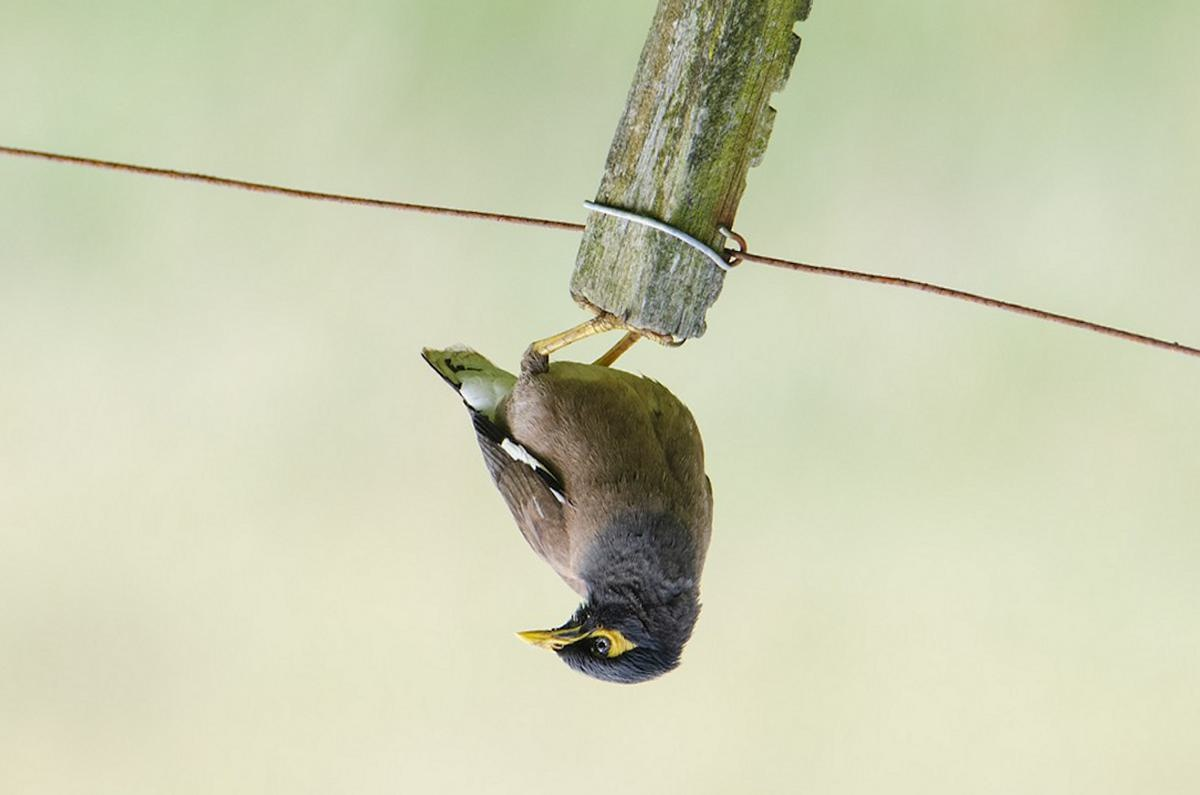myna: (401, 259, 749, 701)
